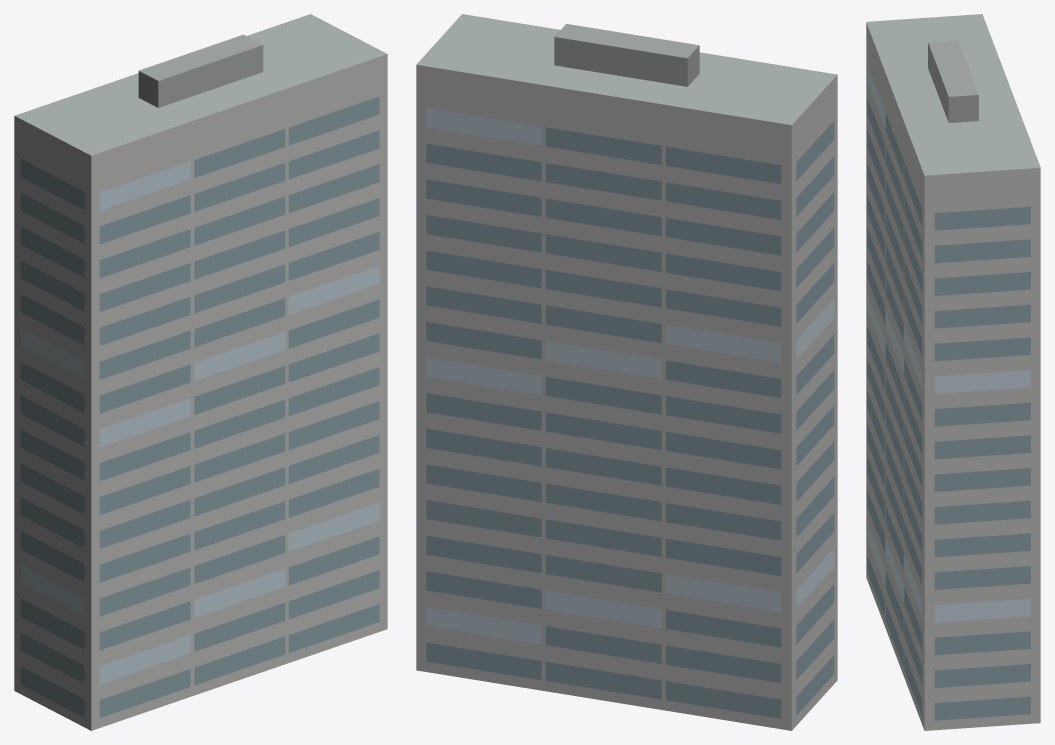
File: fallback-godeok-raemian-hillstate-108.glb
3 views of the same model, side by side, from view 1: azimuth 30°, elevation 25°; view 2: azimuth 150°, elevation 25°; view 3: azimuth 270°, elevation 25° (orthographic). The views are drawn at different scales.
Parts seen in each view (by area): view 1: fallback-godeok-raemian-hillstate-108; view 2: fallback-godeok-raemian-hillstate-108; view 3: fallback-godeok-raemian-hillstate-108.
Part boxes in pixels (x1,y1,x2,y2): fallback-godeok-raemian-hillstate-108: [14, 14, 387, 730]; fallback-godeok-raemian-hillstate-108: [416, 14, 837, 730]; fallback-godeok-raemian-hillstate-108: [866, 14, 1040, 730].
Bounding box in the file's own units: 31.59 × 53 × 14.43.
